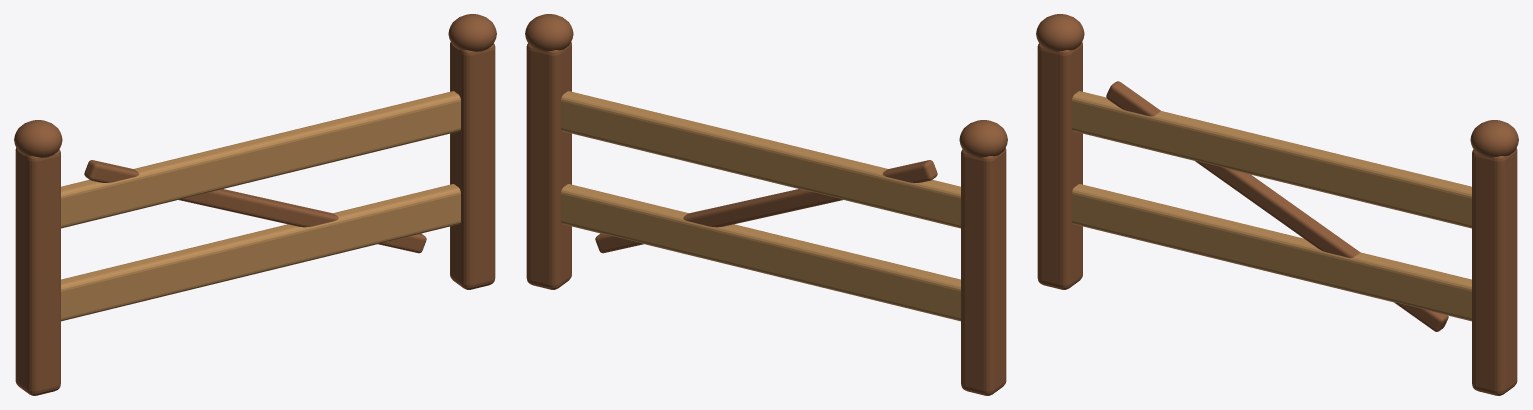
The model's file is fence.glb.
3 views of the same model, side by side, from view 1: azimuth 30°, elevation 25°; view 2: azimuth 150°, elevation 25°; view 3: azimuth 330°, elevation 25° (orthographic).
Parts seen in each view (by area): view 1: PROP · fence rail 0.34, PROP · fence rail 0.72, PROP · fence post -1, PROP · fence post 1, PROP · fence rail brace, PROP · fence post cap -1, PROP · fence post cap 1; view 2: PROP · fence rail 0.34, PROP · fence rail 0.72, PROP · fence post -1, PROP · fence post 1, PROP · fence rail brace, PROP · fence post cap -1, PROP · fence post cap 1; view 3: PROP · fence rail 0.34, PROP · fence rail 0.72, PROP · fence post 1, PROP · fence post -1, PROP · fence rail brace, PROP · fence post cap 1, PROP · fence post cap -1.
Part boxes in pixels (left/top/right/bottom): PROP · fence rail 0.34: left=61, top=184, right=460, bottom=321; PROP · fence rail 0.72: left=61, top=91, right=460, bottom=228; PROP · fence post -1: left=15, top=148, right=60, bottom=395; PROP · fence post 1: left=450, top=42, right=495, bottom=289; PROP · fence rail brace: left=84, top=160, right=426, bottom=253; PROP · fence post cap -1: left=14, top=120, right=62, bottom=157; PROP · fence post cap 1: left=448, top=14, right=496, bottom=51; PROP · fence rail 0.34: left=561, top=184, right=960, bottom=321; PROP · fence rail 0.72: left=561, top=91, right=960, bottom=228; PROP · fence post -1: left=961, top=148, right=1006, bottom=395; PROP · fence post 1: left=526, top=42, right=571, bottom=289; PROP · fence rail brace: left=595, top=160, right=937, bottom=253; PROP · fence post cap -1: left=959, top=120, right=1007, bottom=157; PROP · fence post cap 1: left=525, top=14, right=573, bottom=51; PROP · fence rail 0.34: left=1072, top=184, right=1471, bottom=321; PROP · fence rail 0.72: left=1072, top=91, right=1471, bottom=228; PROP · fence post 1: left=1472, top=148, right=1517, bottom=395; PROP · fence post -1: left=1037, top=42, right=1082, bottom=289; PROP · fence rail brace: left=1106, top=81, right=1448, bottom=331; PROP · fence post cap 1: left=1470, top=120, right=1518, bottom=157; PROP · fence post cap -1: left=1036, top=14, right=1084, bottom=51.
Bounding box in the file's own units: 2.04 × 1.09 × 0.18.
